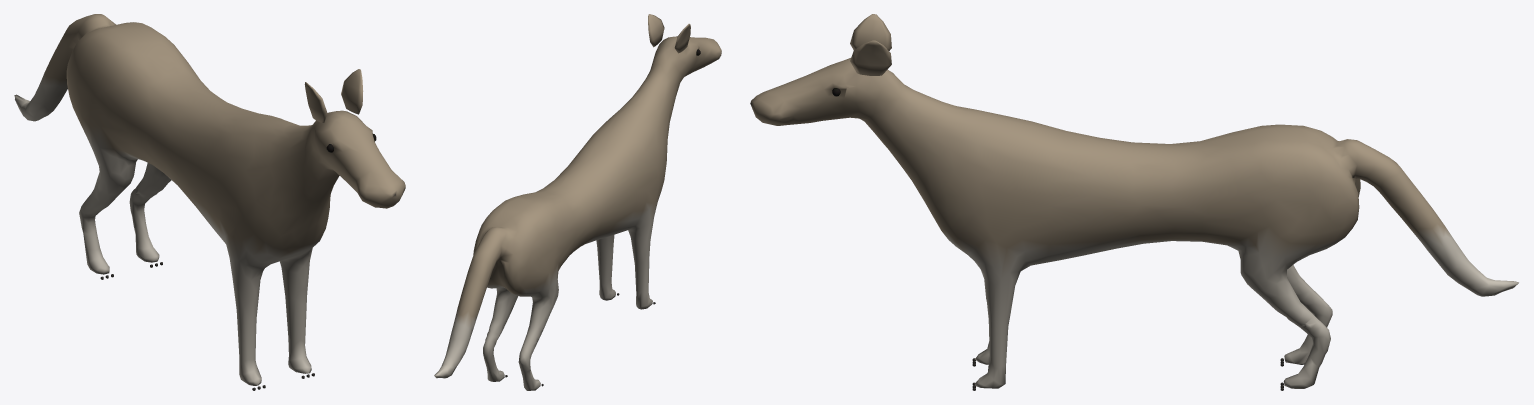
Rendered from kojote.glb.
The picture shows the model from 3 angles, left to right: view 1: azimuth 30°, elevation 25°; view 2: azimuth 150°, elevation 25°; view 3: azimuth 270°, elevation 25°; orthographic projection. The views are drawn at different scales.
Parts seen in each view (by area): view 1: lack; view 2: lack; view 3: lack.
Part boxes in pixels (x1,y1,x2,y2): lack: [14, 14, 405, 390]; lack: [434, 14, 721, 390]; lack: [750, 14, 1518, 390].
Size of the model in its own units: 0.2152 by 0.8021 by 1.6.
